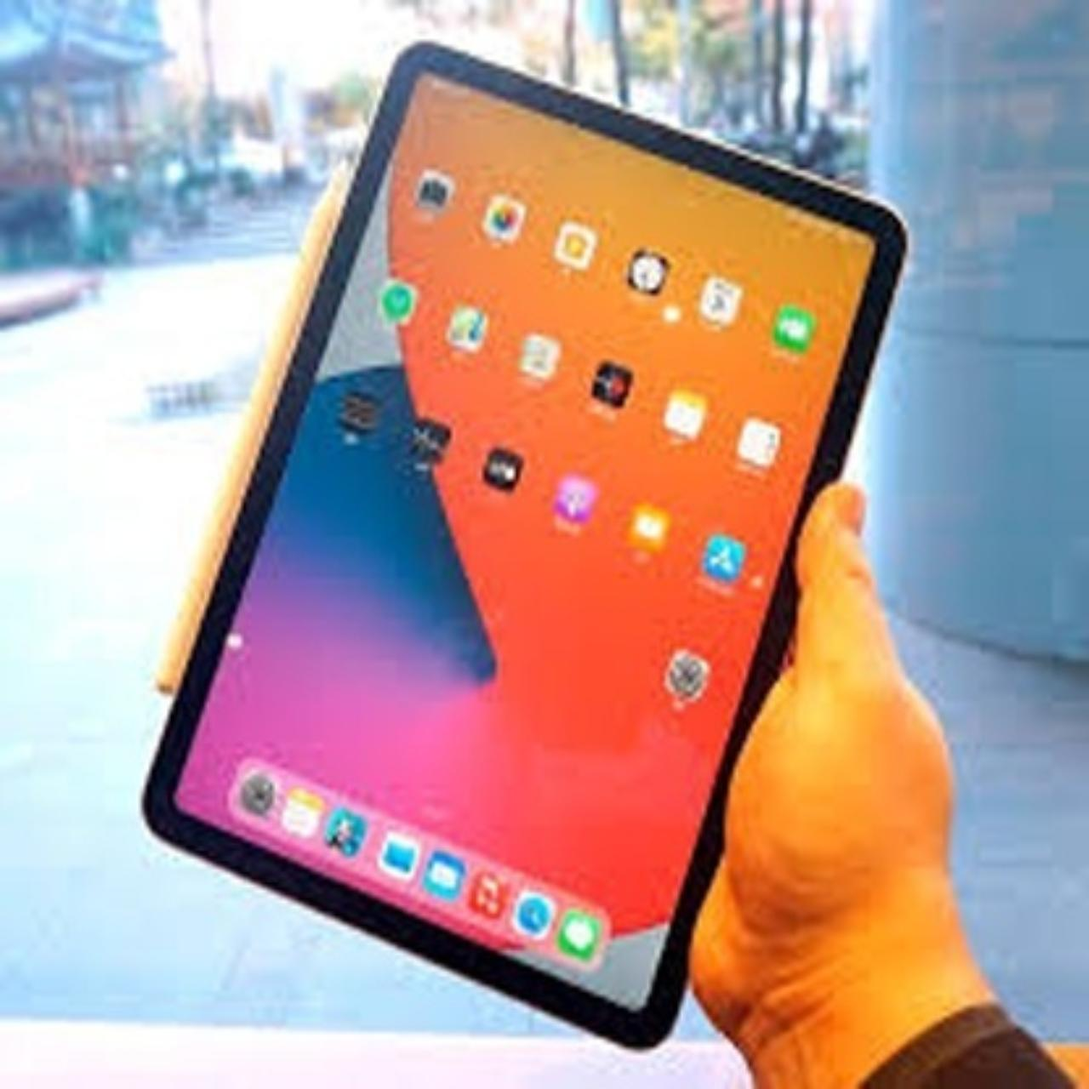Tablet_PC: (152, 48, 913, 1055)
